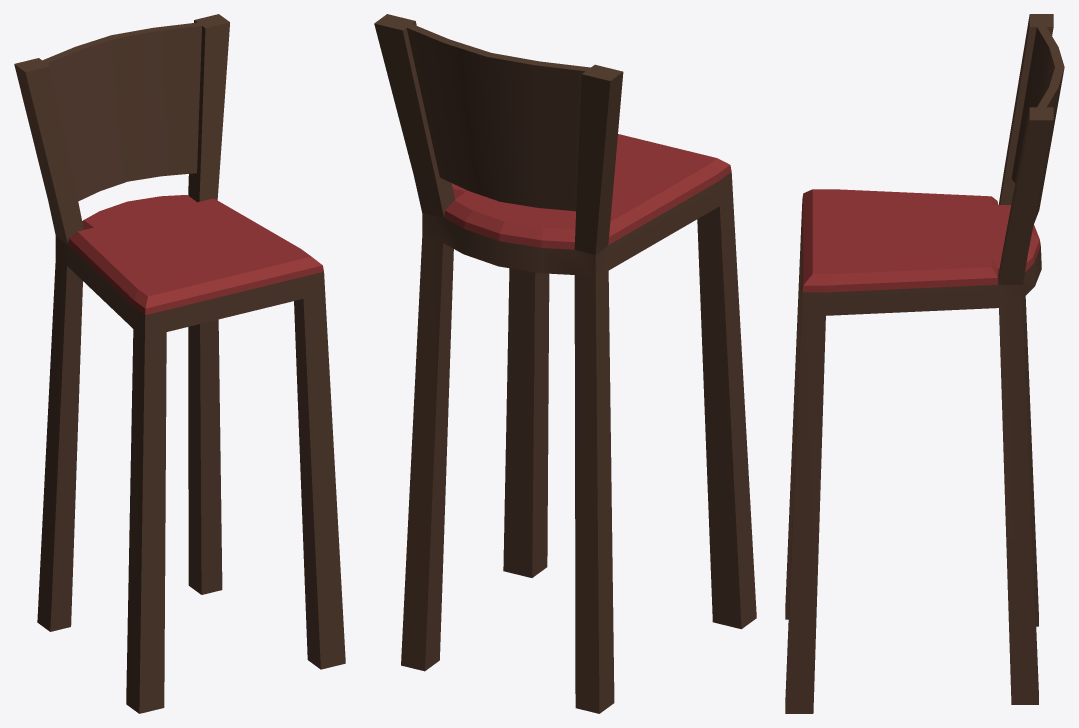
The model's file is barstool.fbx.
The picture shows the model from 3 angles, left to right: view 1: azimuth 30°, elevation 25°; view 2: azimuth 150°, elevation 25°; view 3: azimuth 270°, elevation 25°; orthographic projection. The views are drawn at different scales.
Parts seen in each view (by area): view 1: barstool; view 2: barstool; view 3: barstool.
Part boxes in pixels (<box>): barstool: <box>14,14,345,713</box>; barstool: <box>374,14,756,713</box>; barstool: <box>785,14,1064,713</box>.
Bounding box in the file's own units: 0.6039 × 1.56 × 0.665.
